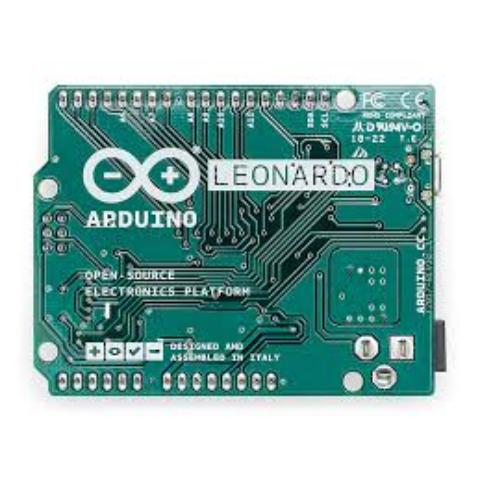Arduino-Leonardo: (23, 72, 454, 406)
